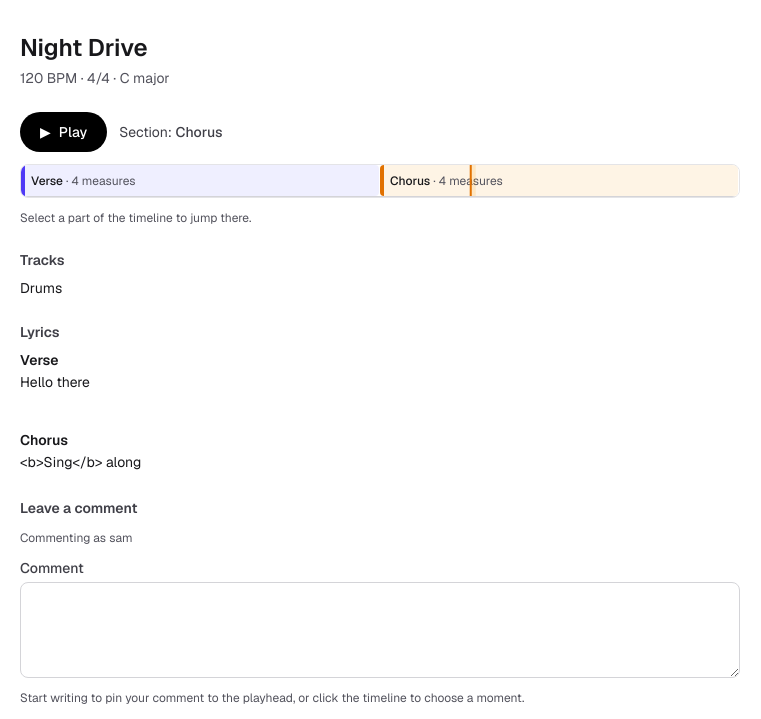
Comments › keeps the text and shows the profile note when the server says a username is required
expect the heading "Night Drive" is shown: met, box [20, 32, 148, 63]
expect the text "Commenting as sam" is shown: met, box [20, 530, 132, 546]
Type "Mine" into the text box labelled "Comment" at (380, 630), box [20, 582, 740, 678]
(page scrolled)
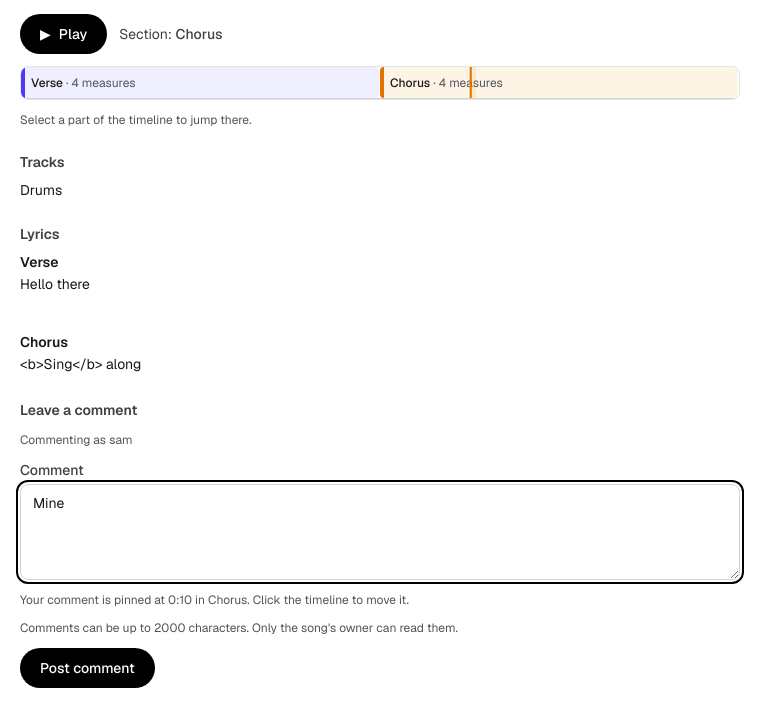
Click the button "Post comment" at (87, 668), box [20, 648, 155, 688]
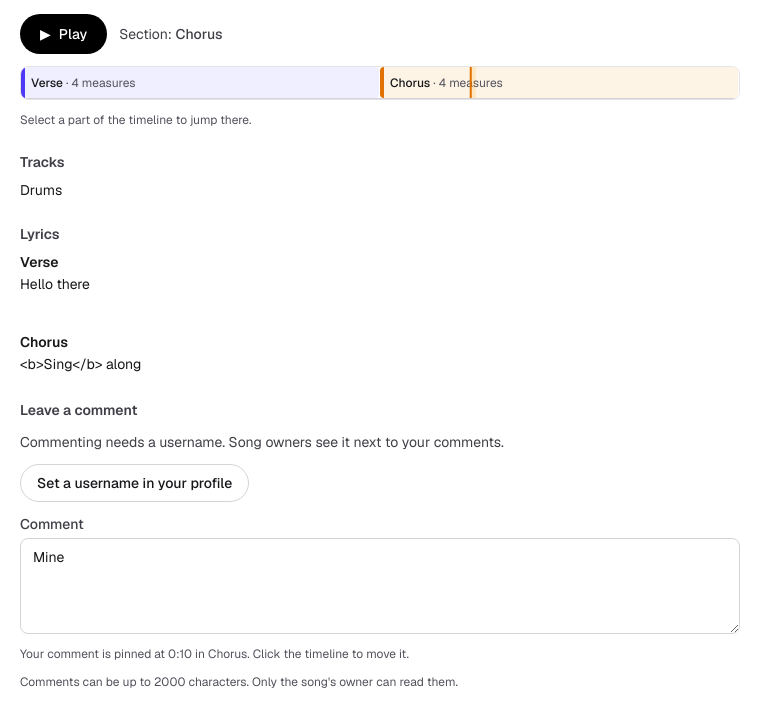
expect the text "Commenting needs a username" is shown: met, box [20, 433, 504, 451]
expect the button "Post comment" is gone: met
